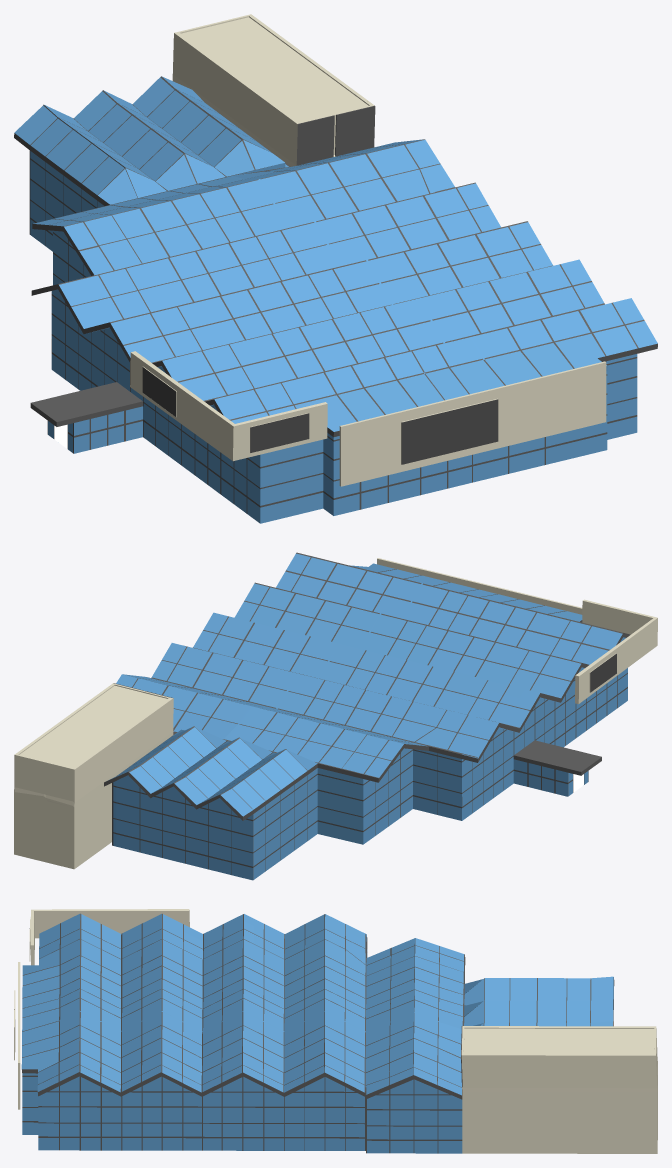
File: bijstox2.glb
3 renders of one model, top to bottom at view 1: azimuth 30°, elevation 25°; view 2: azimuth 150°, elevation 25°; view 3: azimuth 270°, elevation 25°, orthographic. The views are drawn at different scales.
Parts seen in each view (by area): view 1: 279816862; view 2: 279816862; view 3: 279816862.
Boxes of the visible parts, bbox=[...] form: 279816862: bbox=[14, 14, 657, 523]; 279816862: bbox=[14, 552, 657, 880]; 279816862: bbox=[14, 909, 657, 1153].
Bounding box in the file's own units: 463 × 114 × 676.
